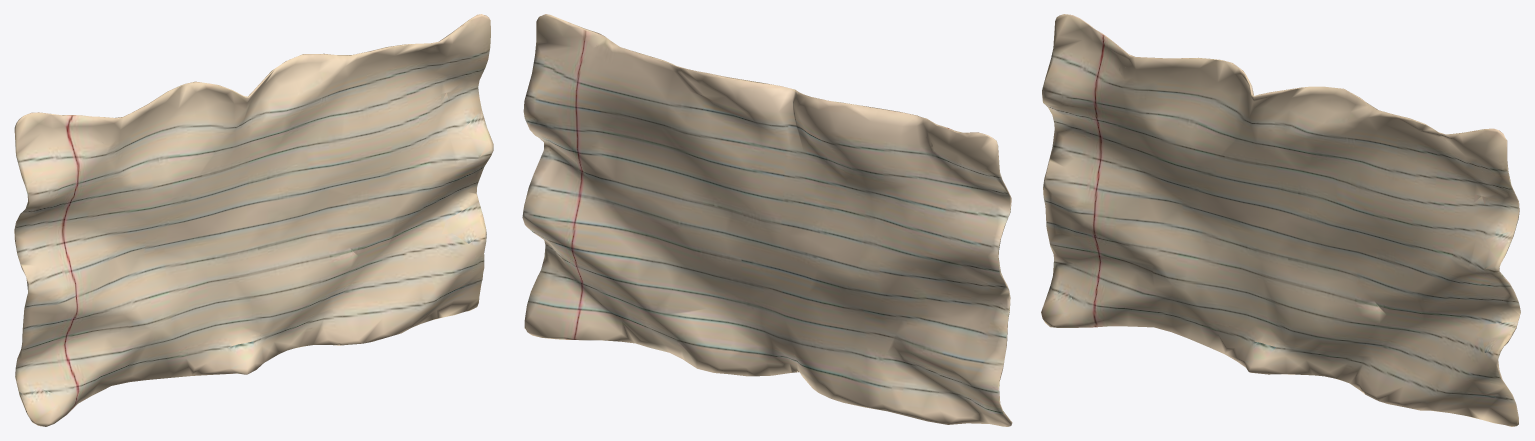
File: paper.glb
3 views of the same model, side by side, from view 1: azimuth 30°, elevation 25°; view 2: azimuth 150°, elevation 25°; view 3: azimuth 330°, elevation 25° (orthographic). The views are drawn at different scales.
Visible parts, largest first — view 1: Mesh0; view 2: Mesh0; view 3: Mesh0.
Boxes of the visible parts, x1,y1,x2,y2 form: Mesh0: (14,14,493,426); Mesh0: (522,14,1012,426); Mesh0: (1041,14,1520,426).
Size of the model in its own units: 1 by 0.6314 by 0.0827.
1 material, 1 textured.
